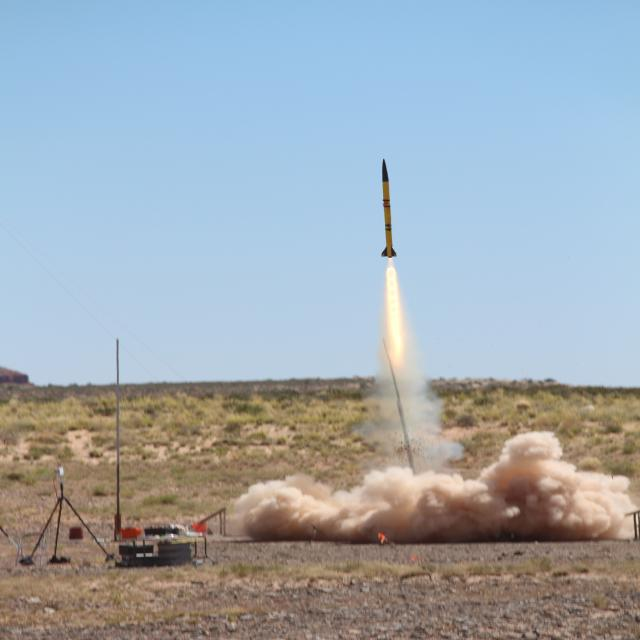Rocket: (381, 158, 397, 258)
